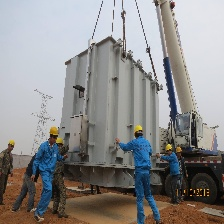helmet: (133, 124, 144, 140), (48, 125, 60, 139)
person: (127, 123, 157, 224), (36, 122, 61, 224), (163, 143, 181, 204), (0, 139, 14, 205)
